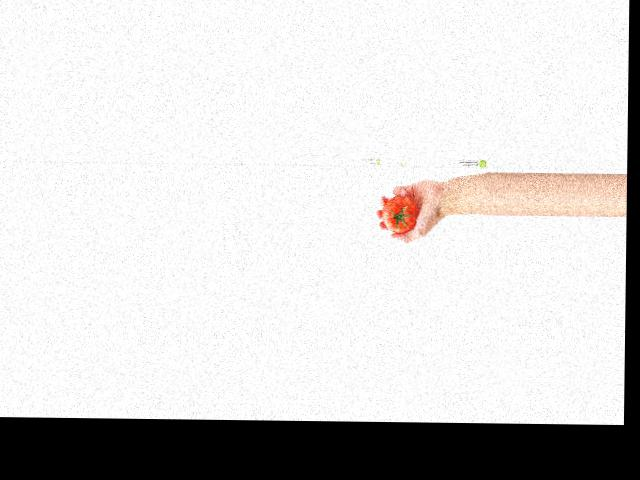tomato: (381, 194, 418, 232)
